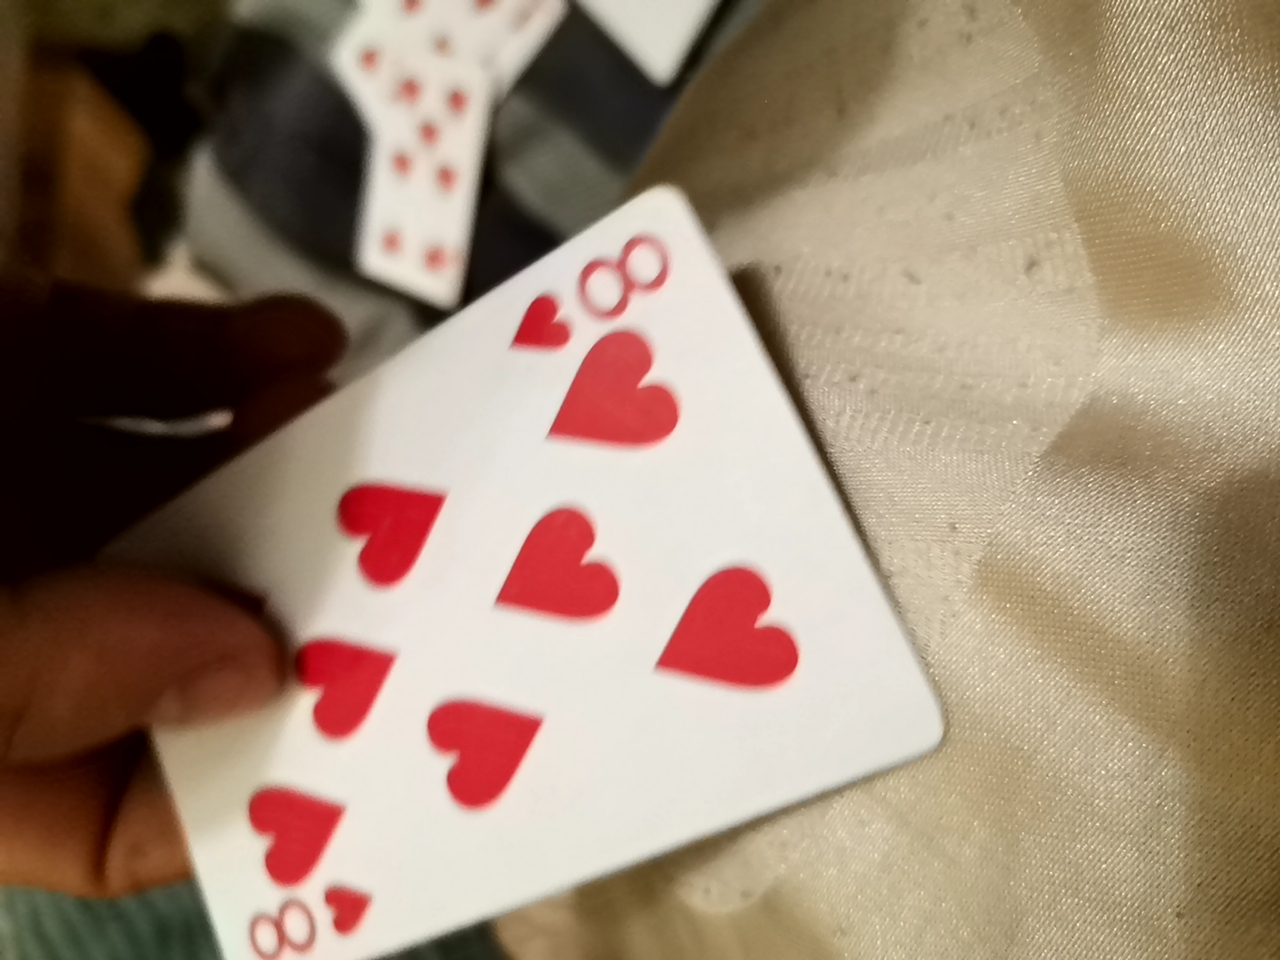hx 8: (181, 170, 944, 955)
